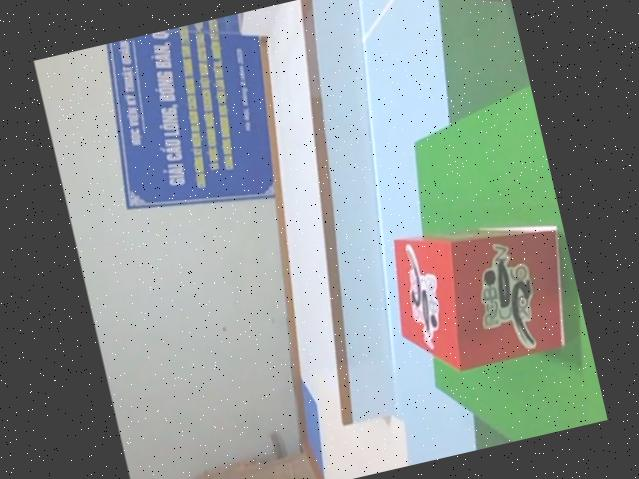R1: (374, 201, 585, 386)
R2 Real: (414, 0, 510, 19)
